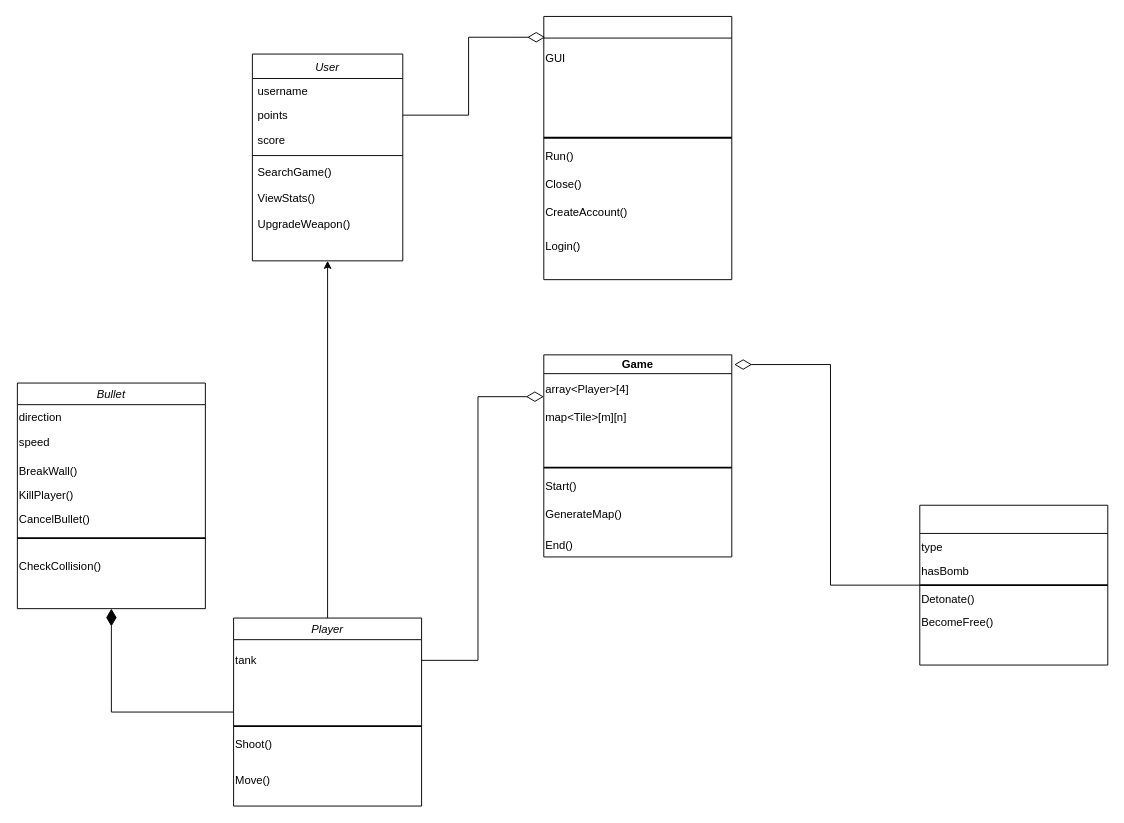
The diagram is 1124 pixels wide and 823 high, and some of its shapes have lost their labels. Each missing label, with the box of its shape:
App: (543, 16, 732, 280)
Tile: (919, 504, 1108, 665)
